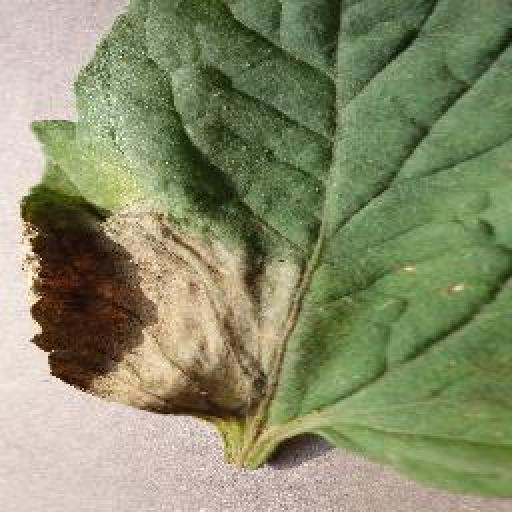Late Blight: (18, 0, 512, 498)
